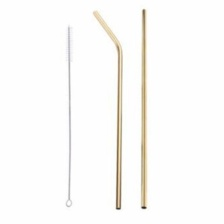drinking_straw: (88, 5, 127, 213), (136, 4, 151, 213)
